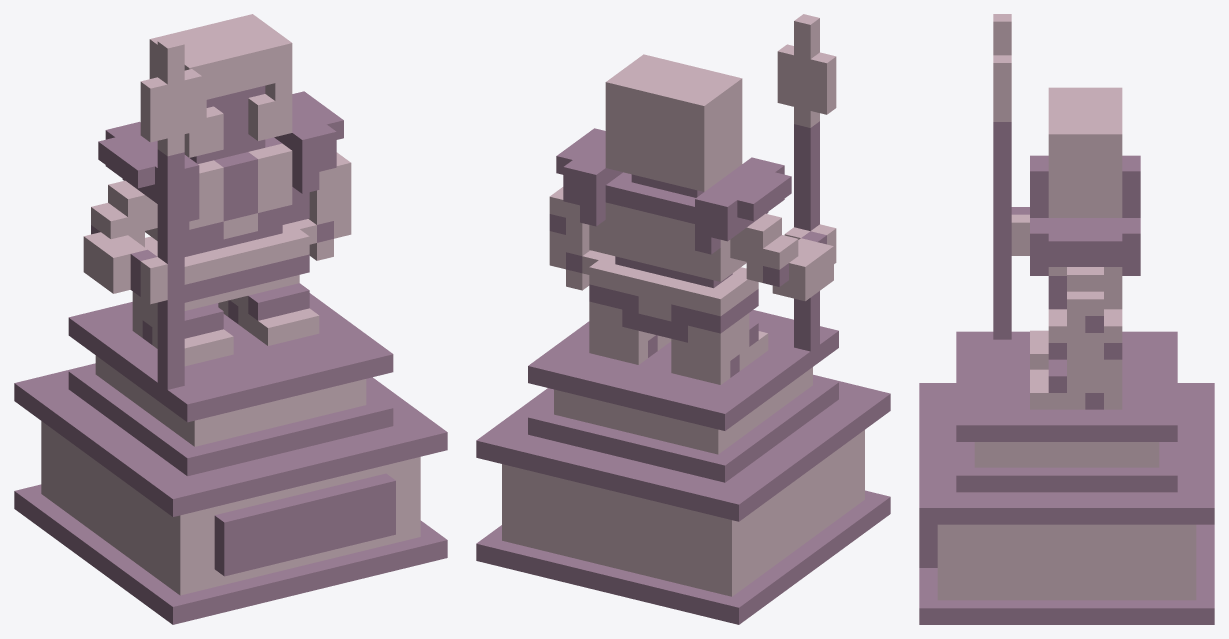
Rendered from knight_statue.obj.
The picture shows the model from 3 angles, left to right: view 1: azimuth 30°, elevation 25°; view 2: azimuth 150°, elevation 25°; view 3: azimuth 270°, elevation 25°; orthographic projection. The views are drawn at different scales.
Visible parts, largest first — view 1: knight_statue; view 2: knight_statue; view 3: knight_statue.
Boxes of the visible parts, x1,y1,x2,y2 form: knight_statue: (14,14,447,624); knight_statue: (476,14,890,624); knight_statue: (919,14,1214,624).
Size of the model in its own units: 25.21 by 47.27 by 25.21.
